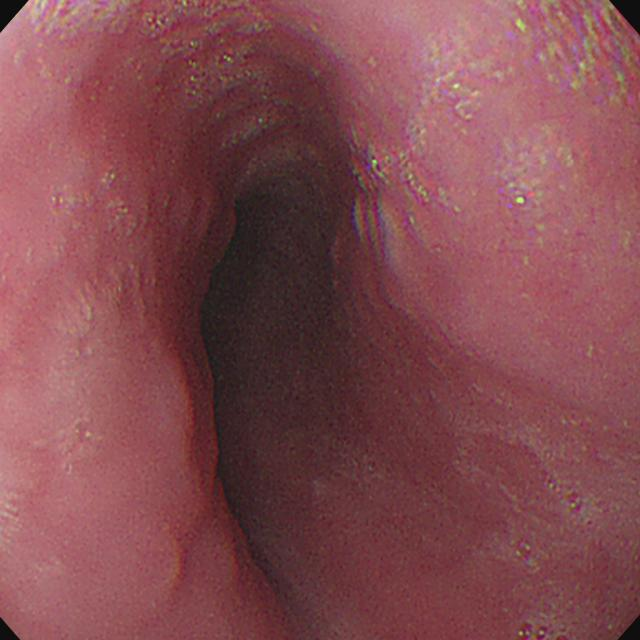E: (193, 187, 328, 573)
U: (506, 2, 640, 108)
